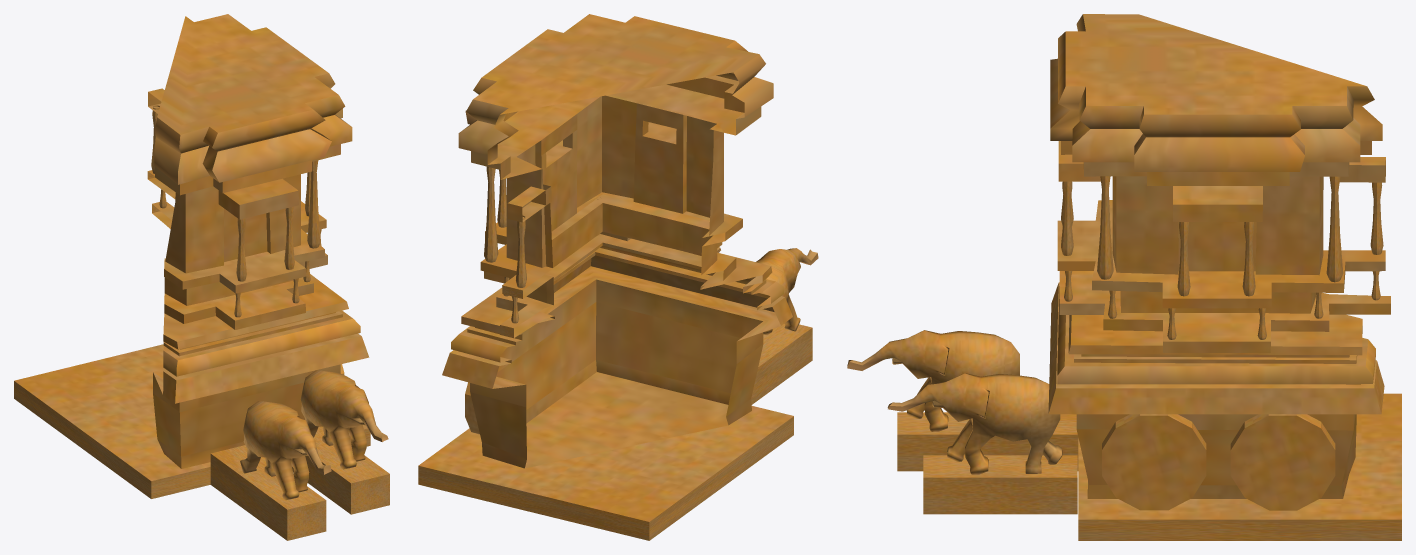
Rendered from ratham.fbx.
The picture shows the model from 3 angles, left to right: view 1: azimuth 30°, elevation 25°; view 2: azimuth 150°, elevation 25°; view 3: azimuth 270°, elevation 25°; orthographic projection. The views are drawn at different scales.
Visible parts, largest first — view 1: elph:polySurface4; view 2: elph:polySurface4; view 3: elph:polySurface4.
Boxes of the visible parts, left/top/right/bottom form: elph:polySurface4: left=14, top=14, right=389, bottom=540; elph:polySurface4: left=418, top=14, right=818, bottom=540; elph:polySurface4: left=847, top=14, right=1401, bottom=540.
Bounding box in the file's own units: 186 × 289 × 347.
